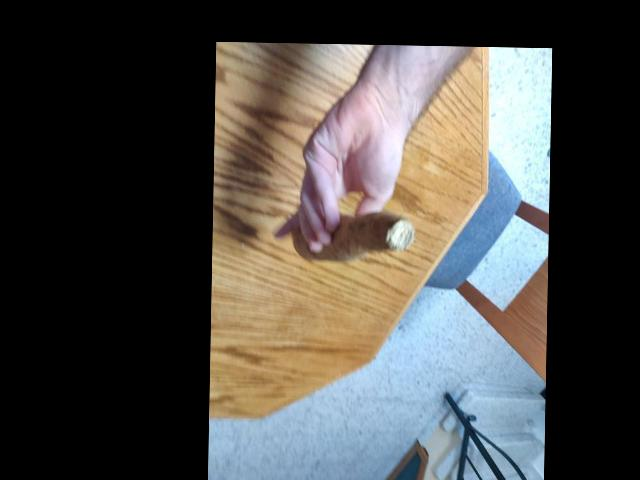sweet_potato: (298, 207, 394, 263)
